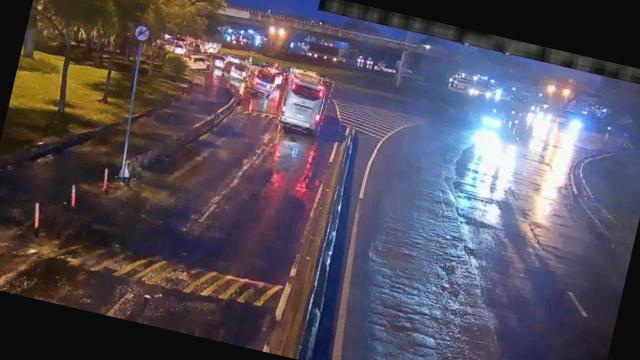Bus: (276, 70, 334, 136), (246, 67, 279, 98), (222, 58, 251, 82)
Car: (246, 70, 278, 99), (188, 50, 214, 74)
